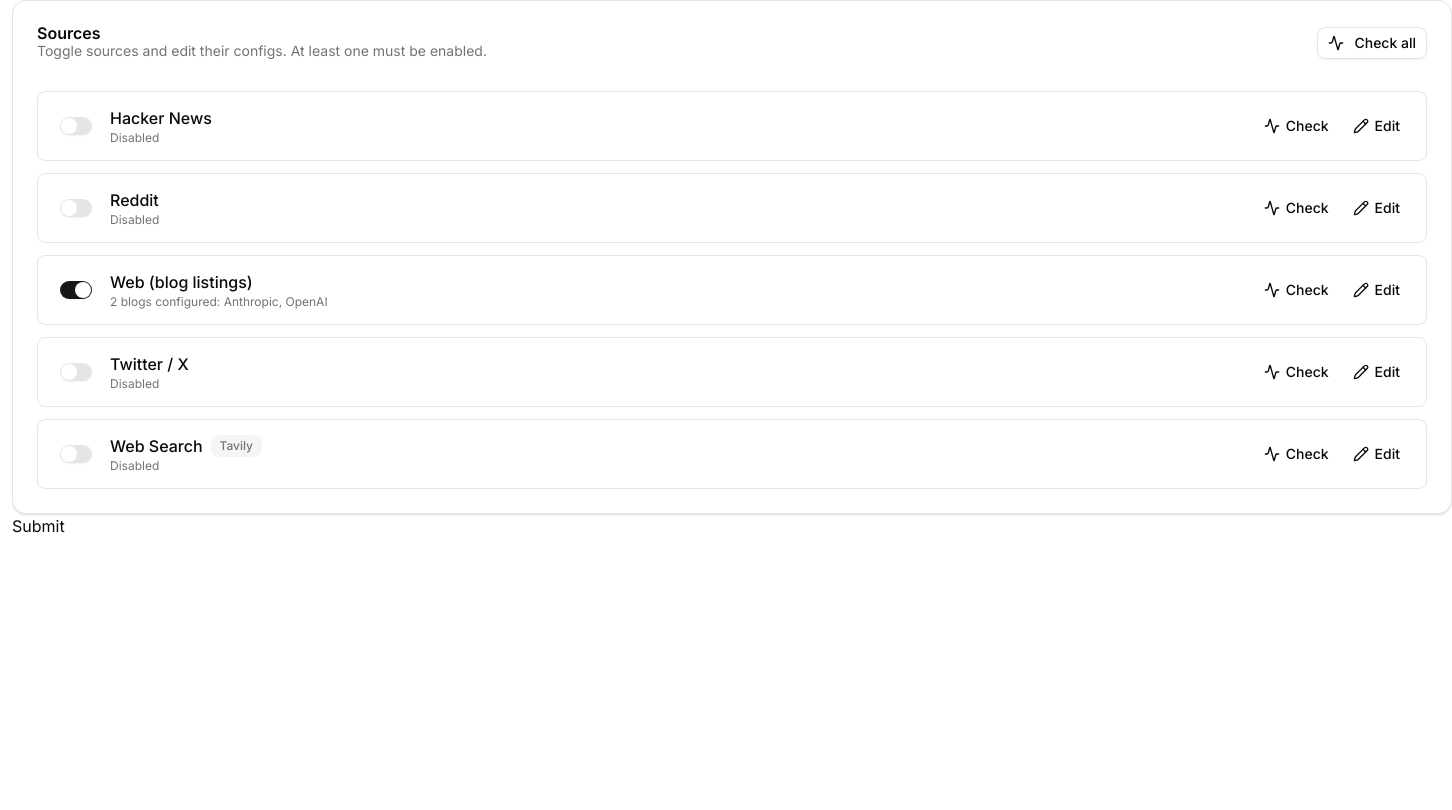
Test: WebEditPanel — per-source Name+URL row inputs › clicking a remove button removes that source row
Click the button with aria-label "web (blog listings) edit": (1376, 290) left=1343, top=268, right=1410, bottom=312
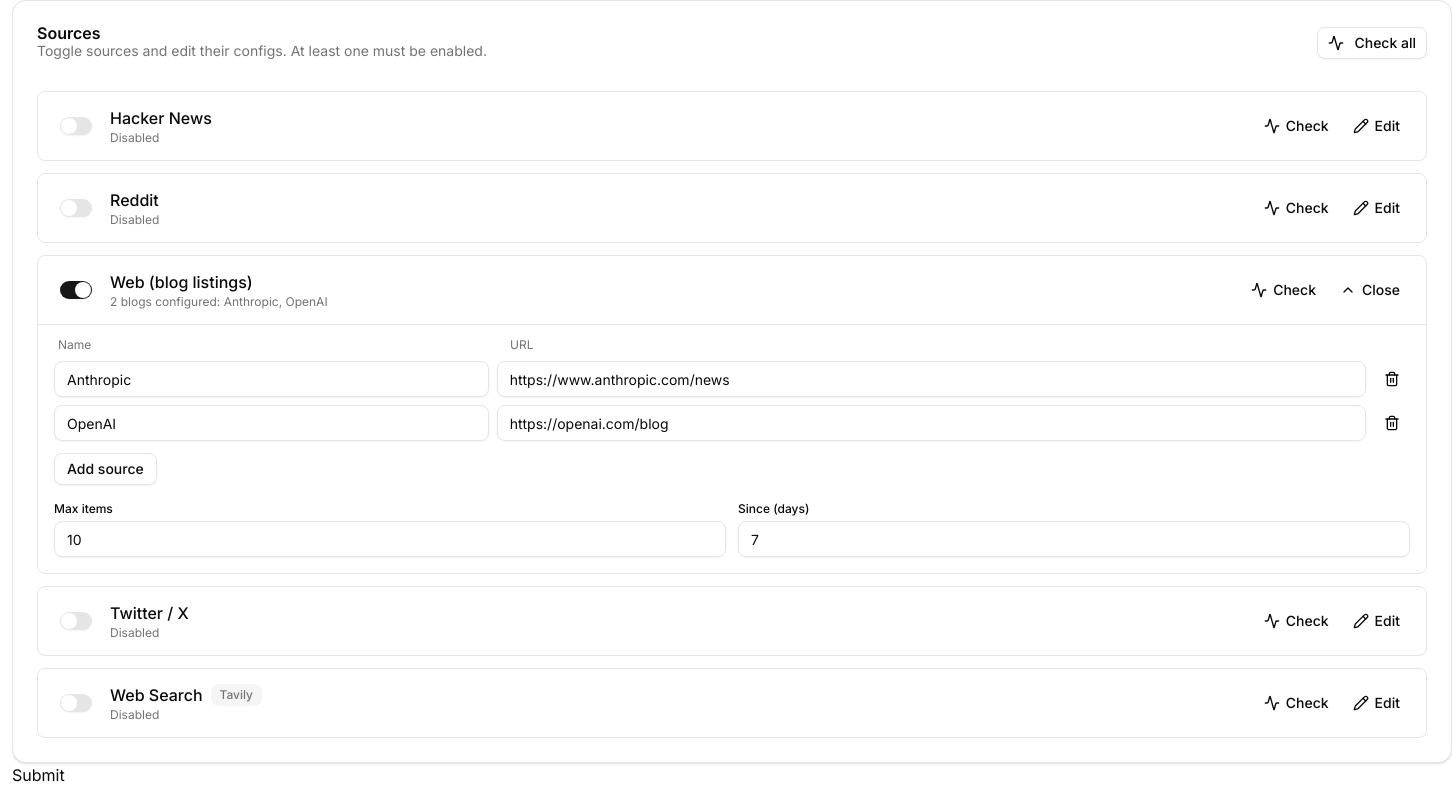
Click the button named "remove anthropic": (1392, 379) left=1374, top=363, right=1410, bottom=395
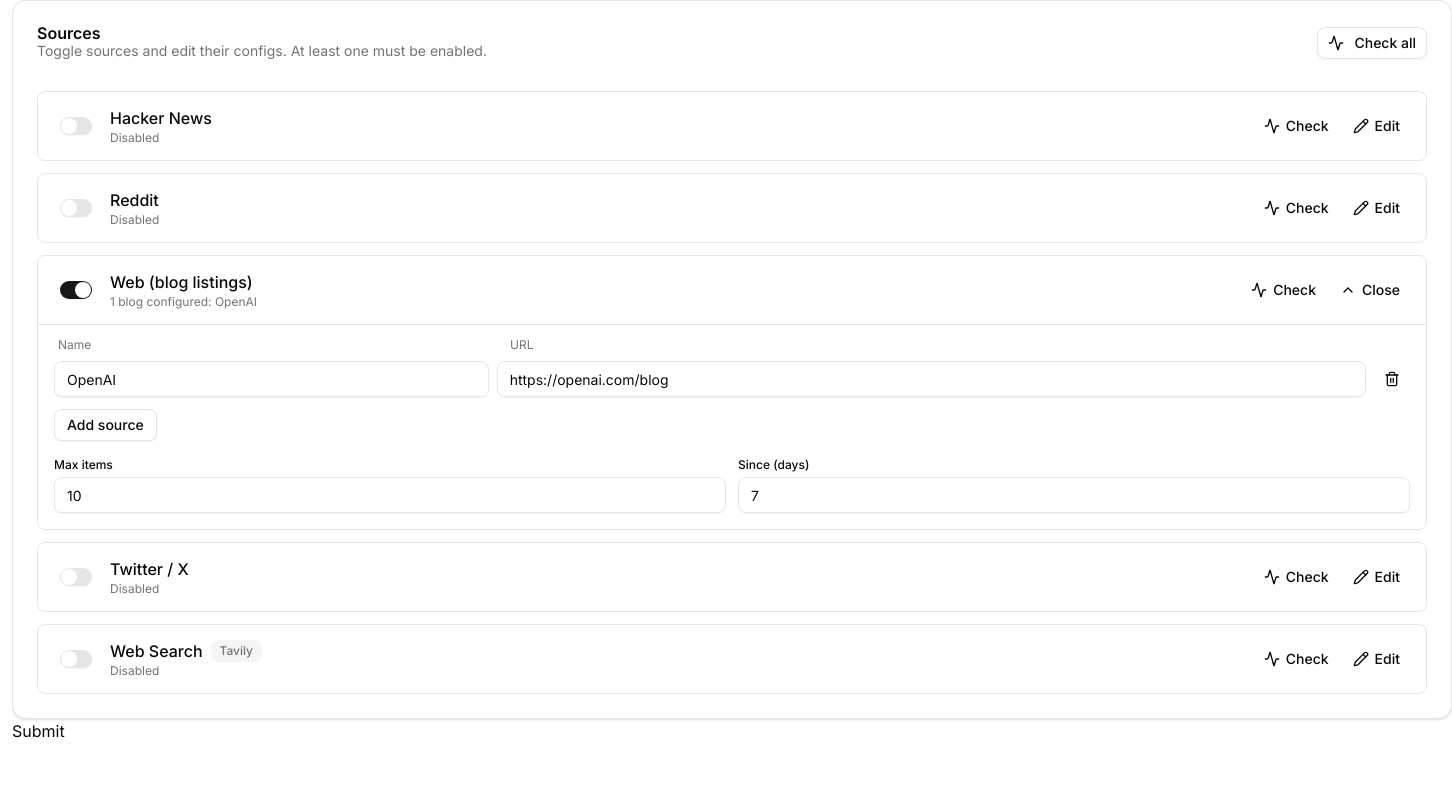
Now the number of fields with placeholder "Anthropic" is 1, box left=54, top=361, right=489, bottom=397
Now the 1st field with placeholder "Anthropic" holds "OpenAI", box left=54, top=361, right=489, bottom=397
